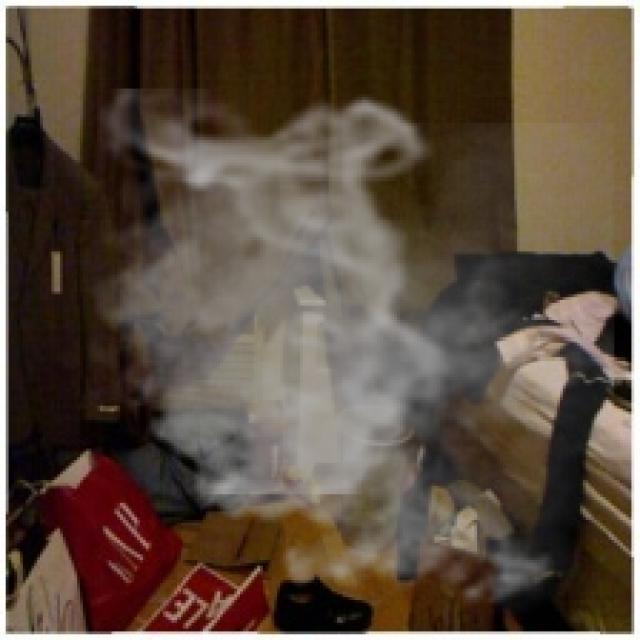Smoke: (75, 89, 614, 620)
